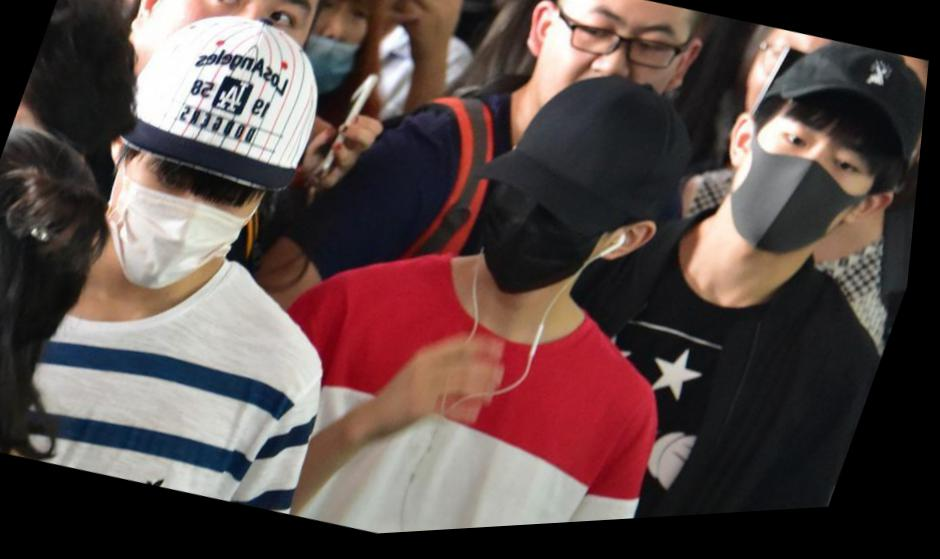NONE: (523, 1, 705, 166)
OK: (716, 100, 895, 283), (123, 1, 330, 152), (94, 148, 280, 316), (470, 166, 631, 324)
WRONG: (262, 1, 389, 115)
